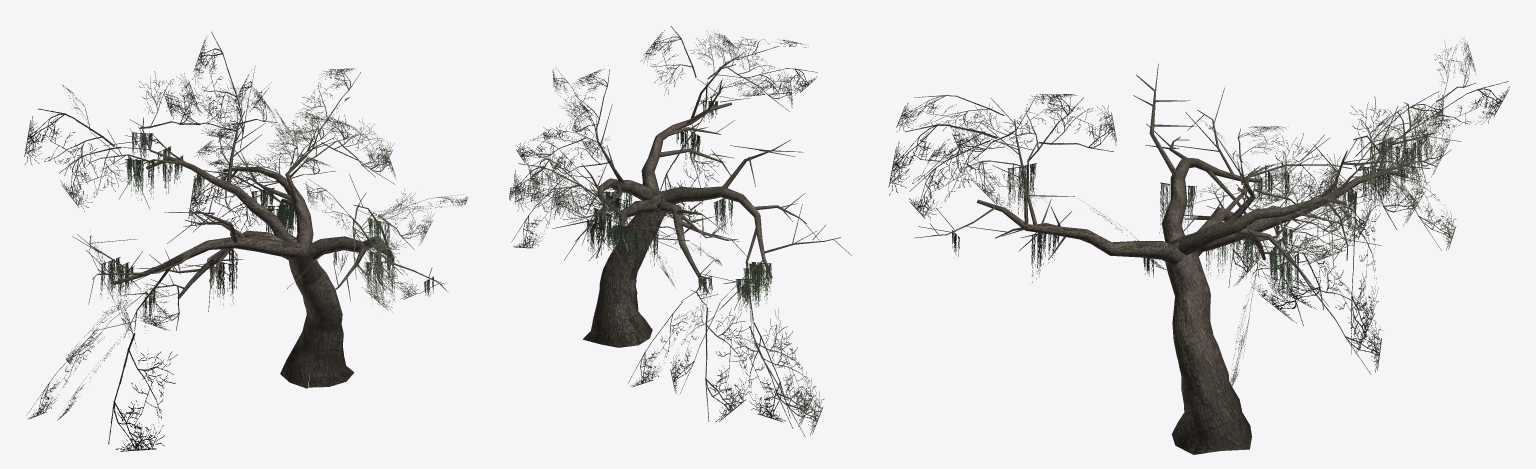
Rendered from tree_v6_decid_gothic_crooked_winter.glb.
3 renders of one model, left to right at view 1: azimuth 30°, elevation 25°; view 2: azimuth 150°, elevation 25°; view 3: azimuth 270°, elevation 25°, orthographic. The views are drawn at different scales.
Visible parts, largest first — view 1: tree_v6_decid_gothic_crooked_winter_LOD0; view 2: tree_v6_decid_gothic_crooked_winter_LOD0; view 3: tree_v6_decid_gothic_crooked_winter_LOD0.
Boxes of the visible parts, <box> form: tree_v6_decid_gothic_crooked_winter_LOD0: <box>24,31,467,451</box>; tree_v6_decid_gothic_crooked_winter_LOD0: <box>509,26,851,436</box>; tree_v6_decid_gothic_crooked_winter_LOD0: <box>888,37,1509,454</box>.
Size of what is drawn, in the model's own units: 8.01 by 7.56 by 10.69.
Materials: 1 (1 with a texture image).
